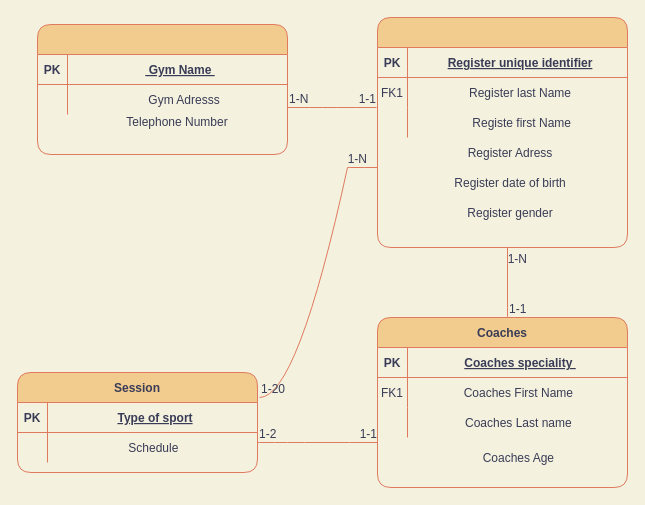
Some shapes in this 645 by 505 pixel diagram are drawn without their labels. The box of each missing label's shape, as (x1, y1, x2, y2) in pixels:
gymnasiums: (36, 24, 288, 154)
Membres: (376, 16, 628, 248)
